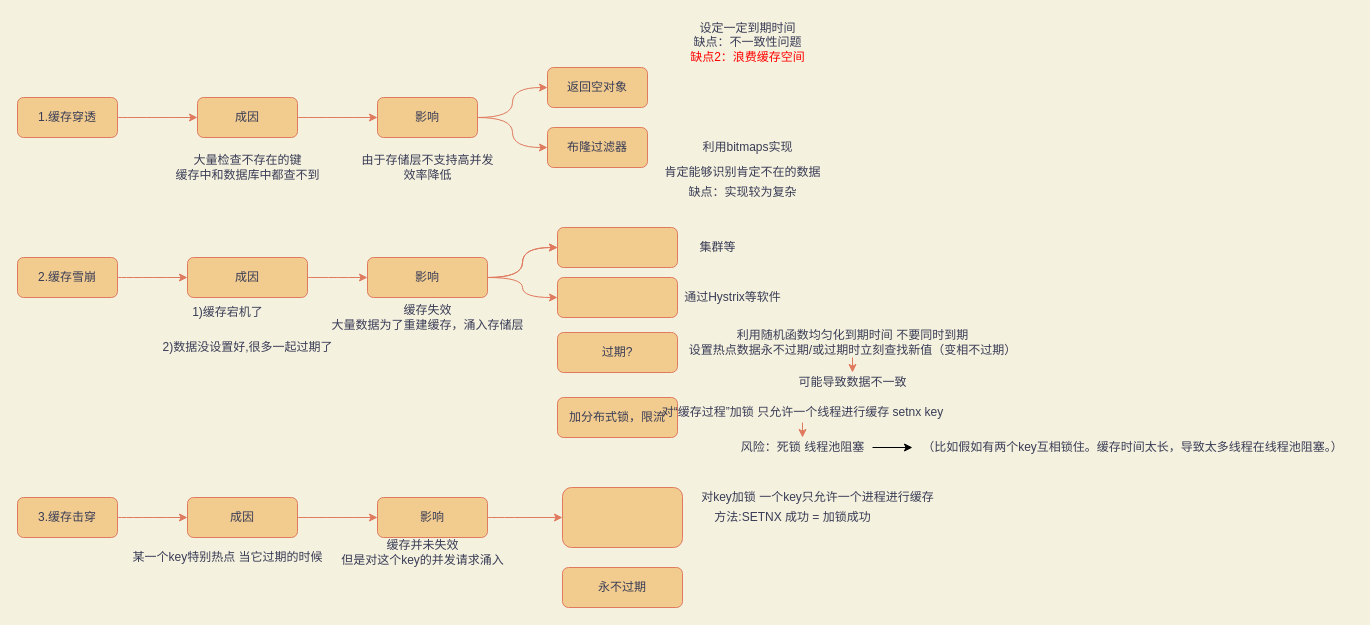
This 1370x625 diagram has some shape labels left out. The shapes that lost their labels are listed below. From the top down, each one's centre as x and y in pixels, then its label:
At (617,247): "提高缓存可用性".
At (617,297): "依赖隔离".
At (622,517): "互斥锁(mutex)，限流".
